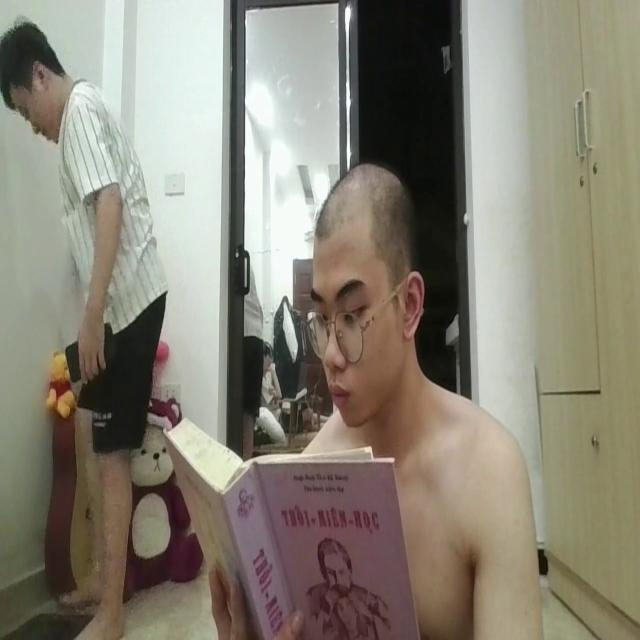book: (165, 409, 420, 640)
extra_person: (0, 18, 171, 640)
student: (296, 148, 542, 640)
